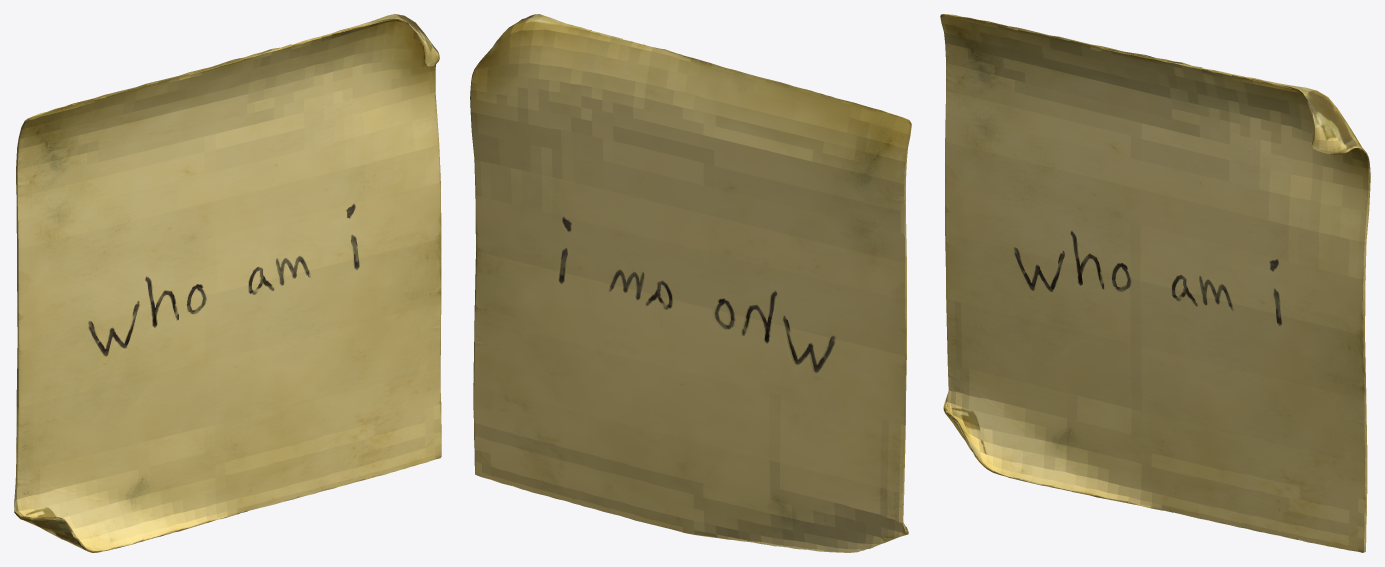
File: Meshy_AI_Who_am_I_0704204924_texture.fbx
The picture shows the model from 3 angles, left to right: view 1: azimuth 30°, elevation 25°; view 2: azimuth 150°, elevation 25°; view 3: azimuth 330°, elevation 25°; orthographic projection. The views are drawn at different scales.
Visible parts, largest first — view 1: temp; view 2: temp; view 3: temp.
Part boxes in pixels (left/top/right/bottom): temp: left=14, top=14, right=441, bottom=552; temp: left=470, top=14, right=911, bottom=552; temp: left=940, top=14, right=1370, bottom=552.
Bounding box in the file's own units: 182 × 191 × 18.79.
1 material, 1 textured.
